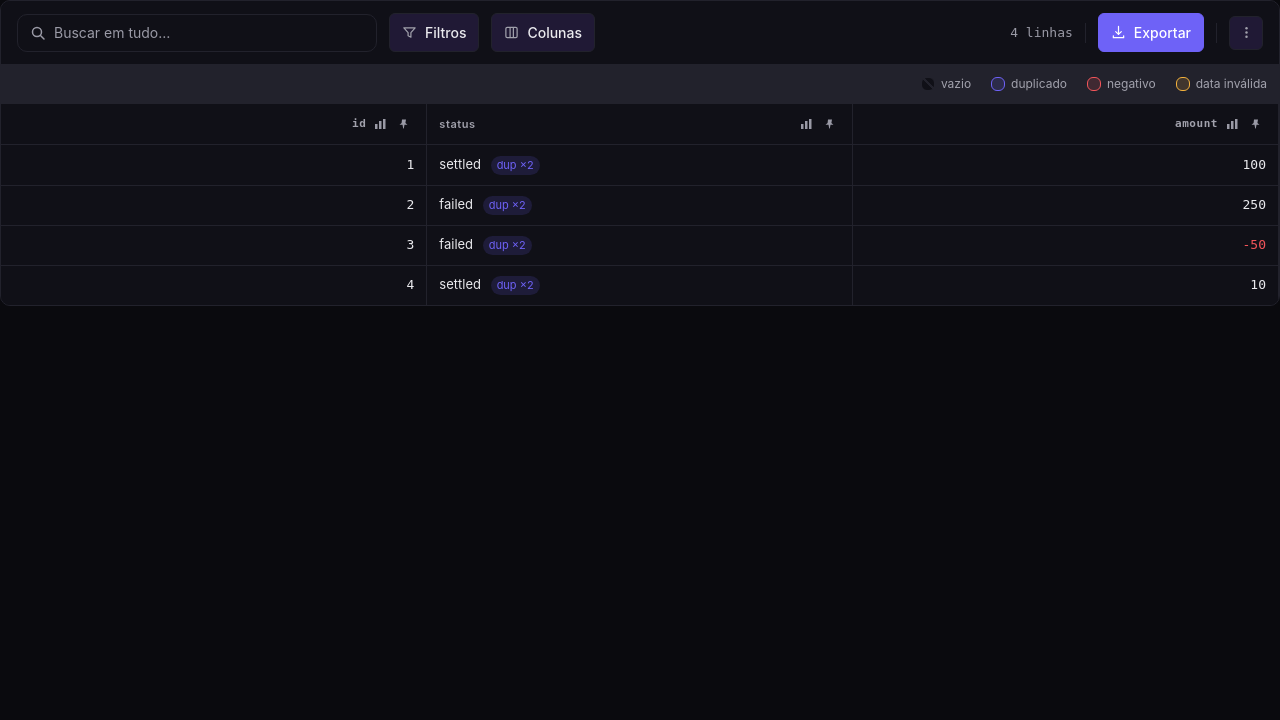
Scenario: viewer.vue — fiação da exportação (T06) › o ExportModal recebe filteredRows/dataset.rows/displayColumns/meta.name correntes do Viewer
Click the button with class "toolbar__export": (1151, 32) [1098,13,1204,52]
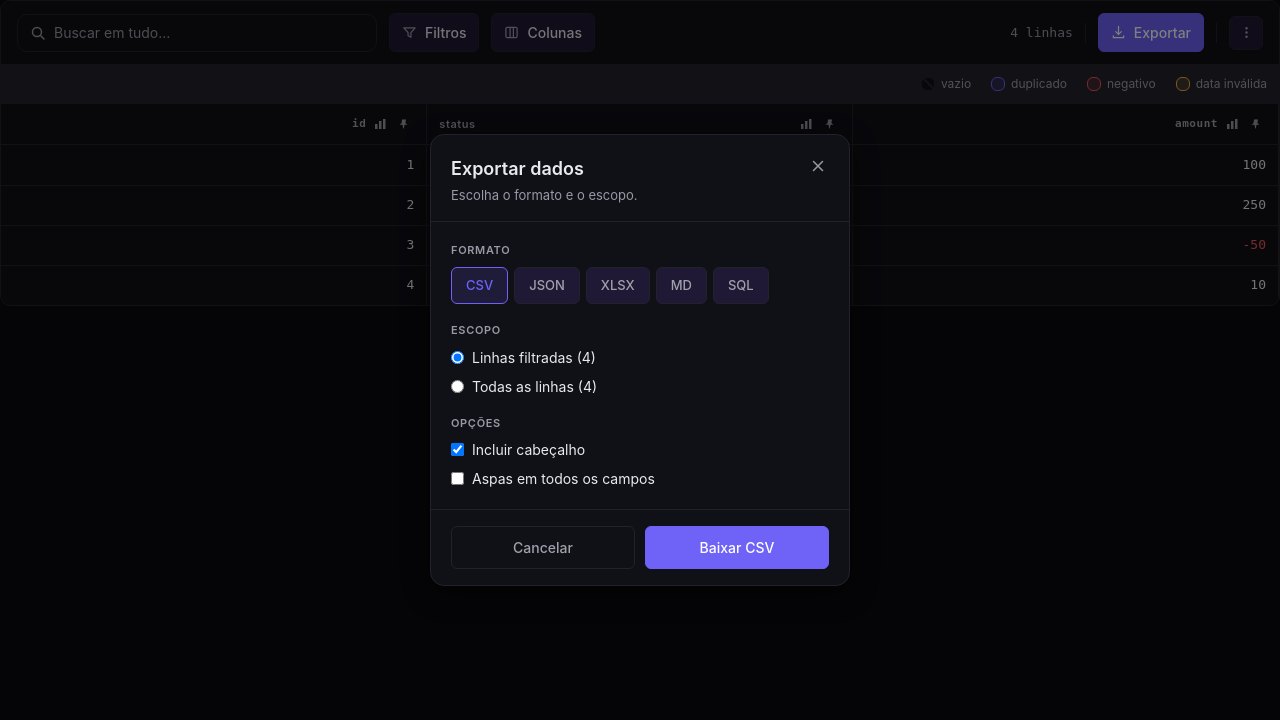
Check: the heading with class "export-overlay__title" reads "Exportar dados", box [451,158,584,179]
Check: the text "Linhas filtradas (4)" is shown, box [472,347,596,368]
Check: the text "Todas as linhas (4)" is shown, box [472,376,597,397]
